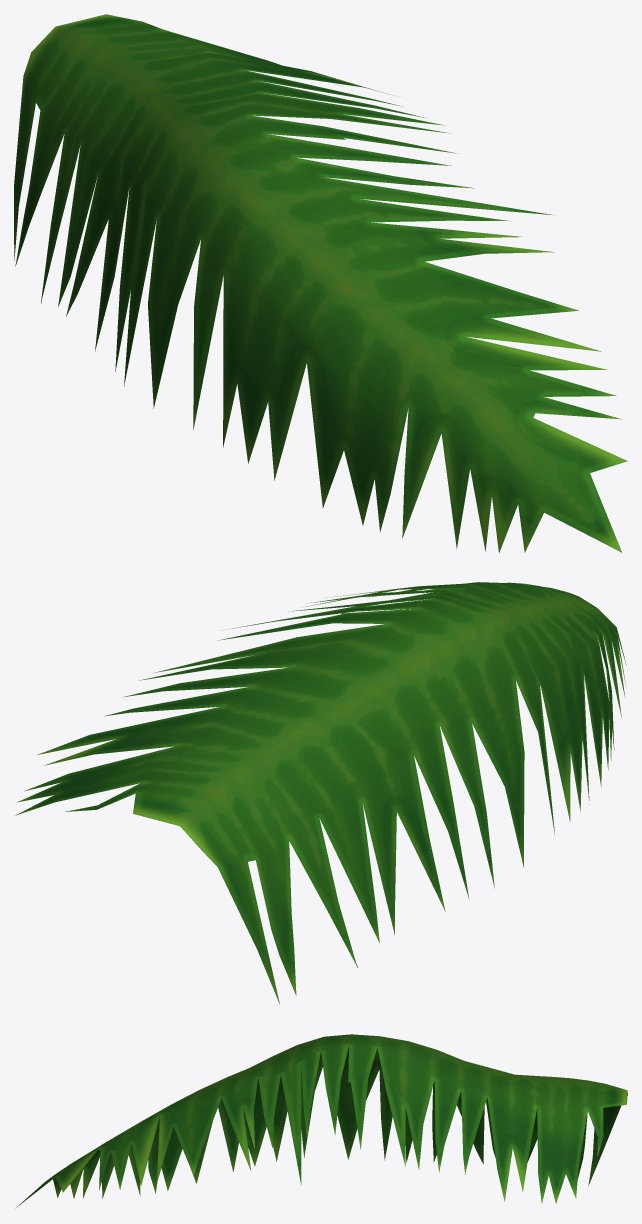
File: palm_leaves_palm_leaves_0_005.obj
3 renders of one model, top to bottom at view 1: azimuth 30°, elevation 25°; view 2: azimuth 150°, elevation 25°; view 3: azimuth 270°, elevation 25°, orthographic. The views are drawn at different scales.
Visible parts, largest first — view 1: palm_leaves_palm_leaves_0.005; view 2: palm_leaves_palm_leaves_0.005; view 3: palm_leaves_palm_leaves_0.005.
Part boxes in pixels (x1,y1,x2,y2): palm_leaves_palm_leaves_0.005: (14,14,627,552); palm_leaves_palm_leaves_0.005: (15,582,626,1004); palm_leaves_palm_leaves_0.005: (16,1034,627,1207).
Bounding box in the file's own units: 13.1 × 8.73 × 29.77.
Materials: 1 (1 with a texture image).
